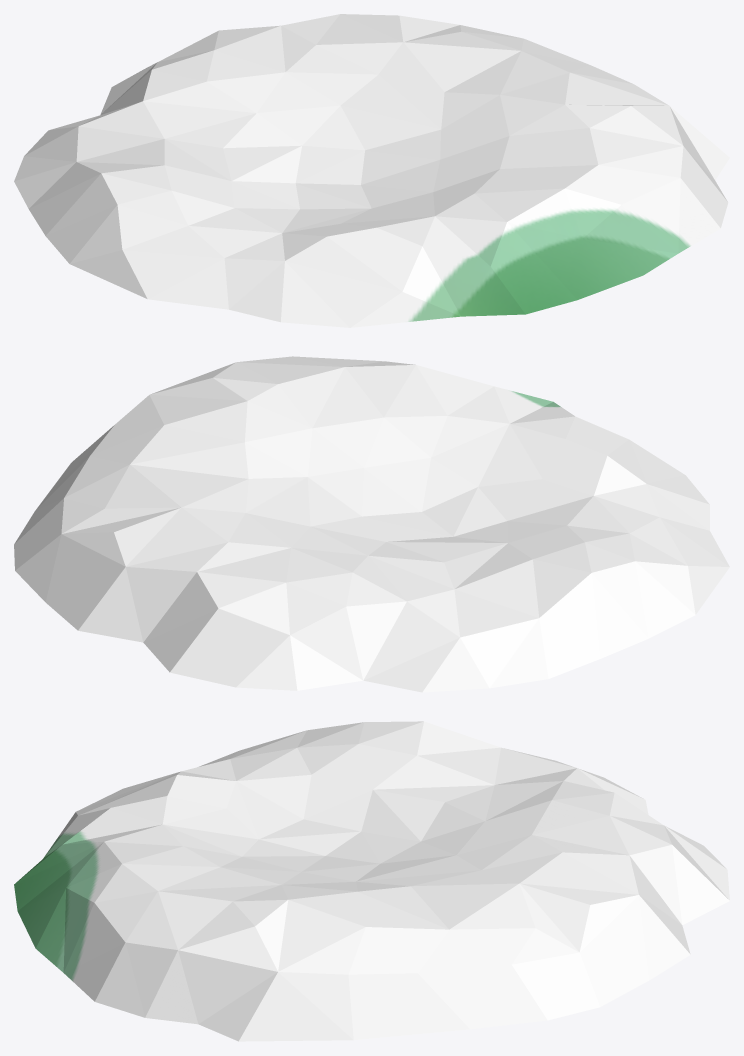
Rendered from Cabbage1.fbx.
The picture shows the model from 3 angles, top to bottom: view 1: azimuth 30°, elevation 25°; view 2: azimuth 150°, elevation 25°; view 3: azimuth 270°, elevation 25°; orthographic projection. The views are drawn at different scales.
Visible parts, largest first — view 1: 1; view 2: 1; view 3: 1.
Boxes of the visible parts, x1,y1,x2,y2 form: 1: [14, 14, 729, 327]; 1: [14, 356, 729, 692]; 1: [14, 721, 729, 1041].
Size of the model in its own units: 189 by 20.81 by 189.
